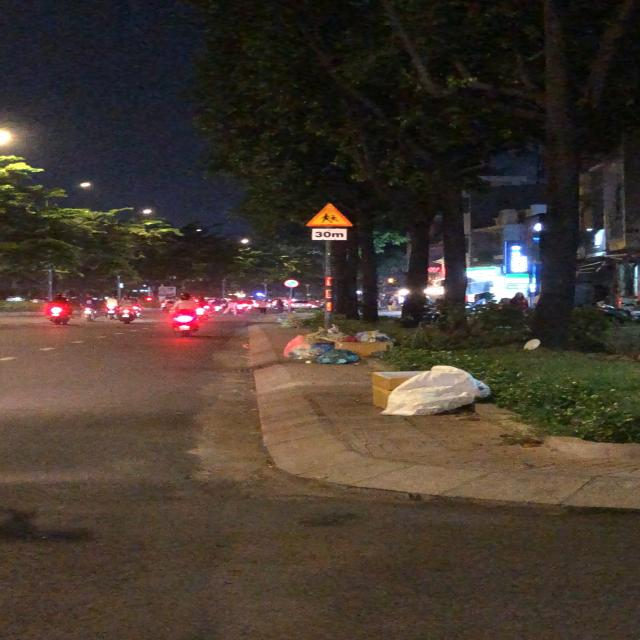Bien bao tre em: (302, 200, 354, 229)
